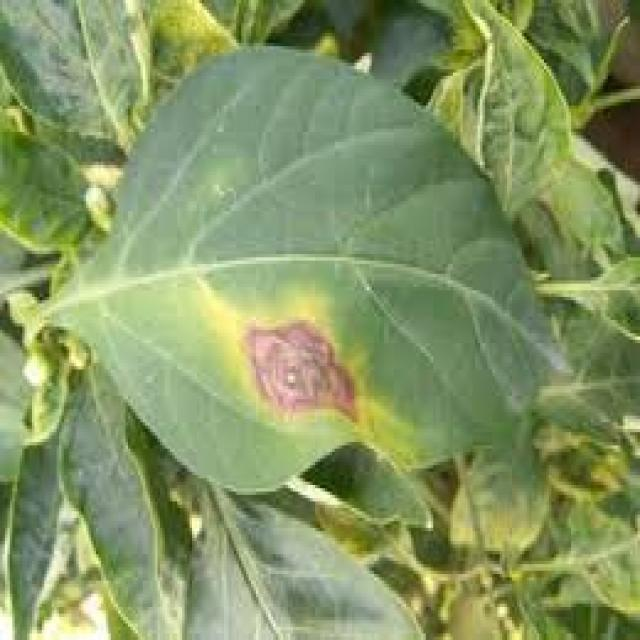bercak_daun: (87, 42, 539, 492)
